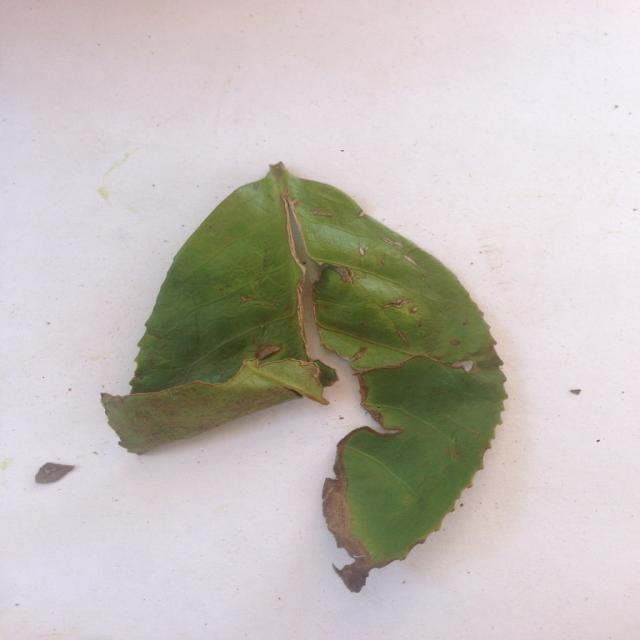Brown Blight: (103, 153, 536, 592)
